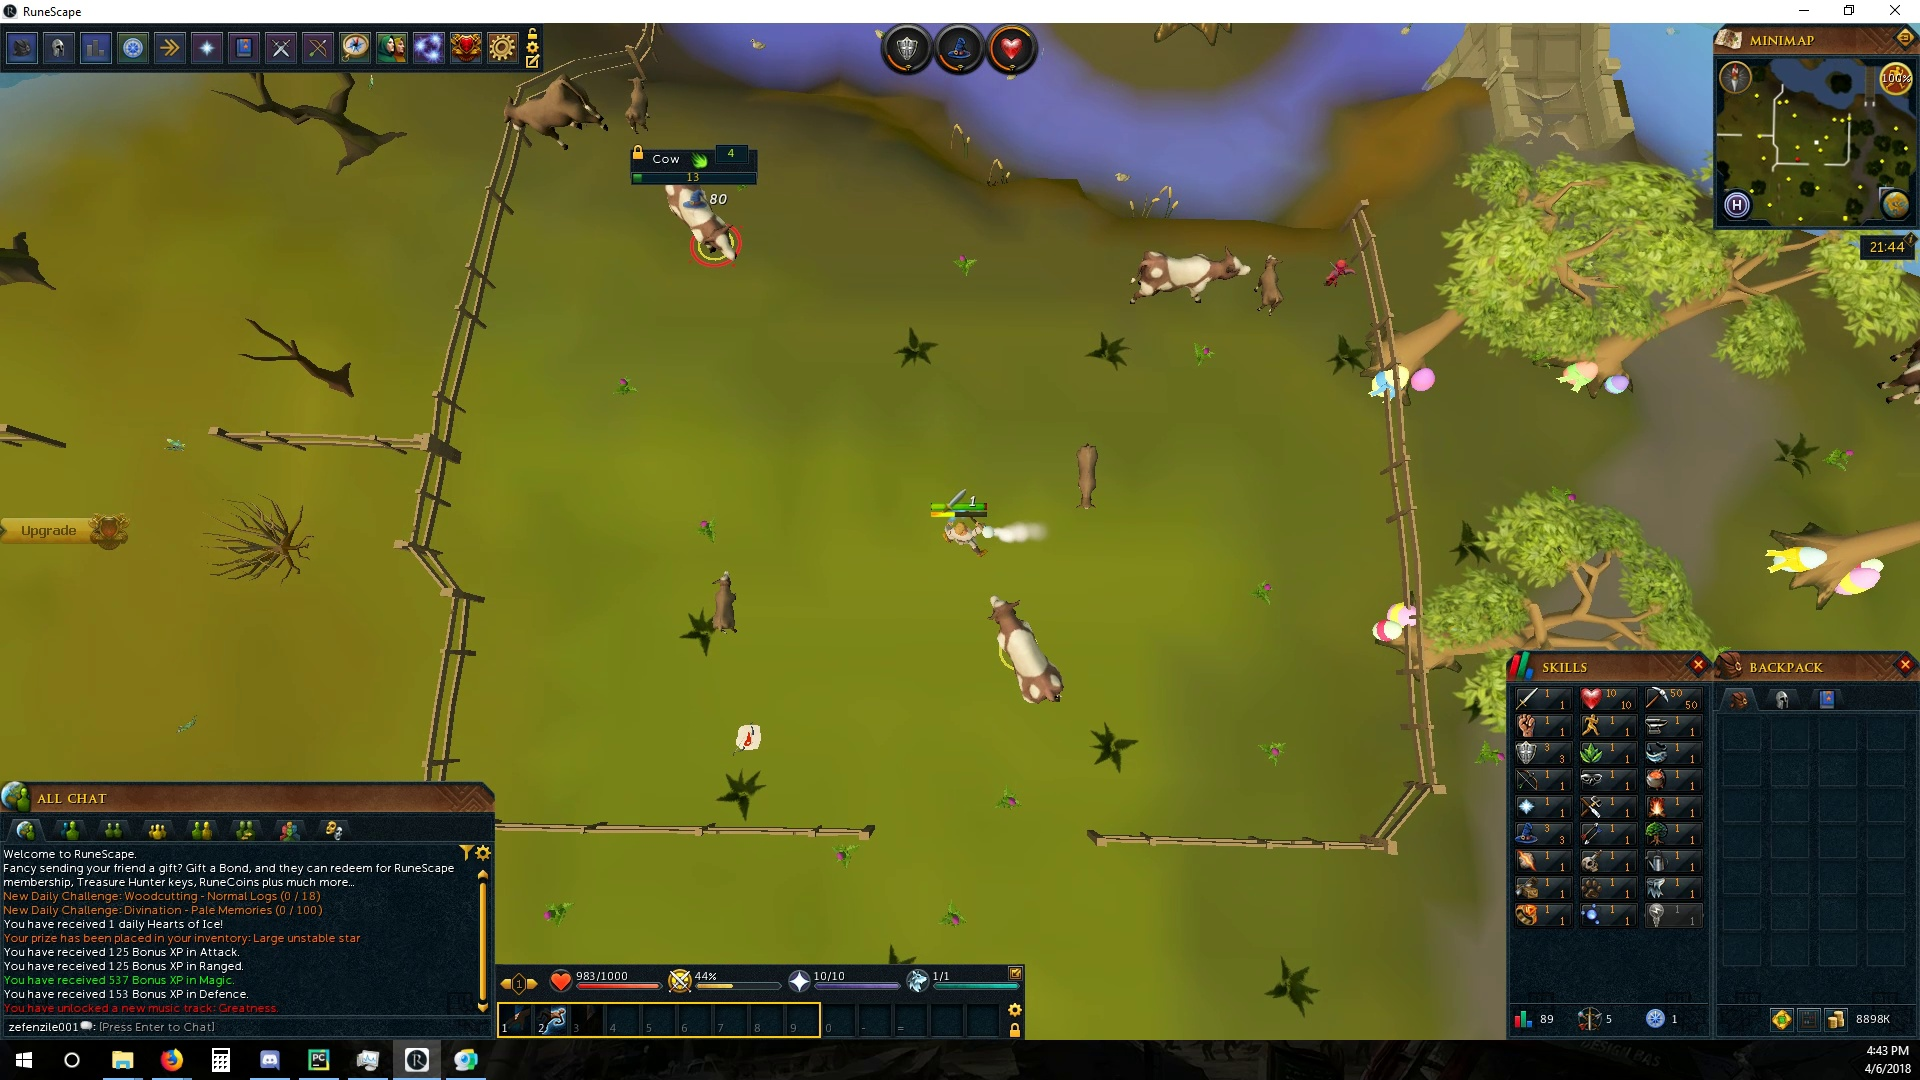calf: (1071, 438, 1101, 512), (705, 574, 738, 640), (622, 75, 658, 136), (1254, 255, 1286, 315)
cow: (501, 71, 612, 157), (984, 592, 1065, 705), (1129, 248, 1251, 311), (659, 185, 748, 268)
cow_drop: (733, 723, 764, 750)
